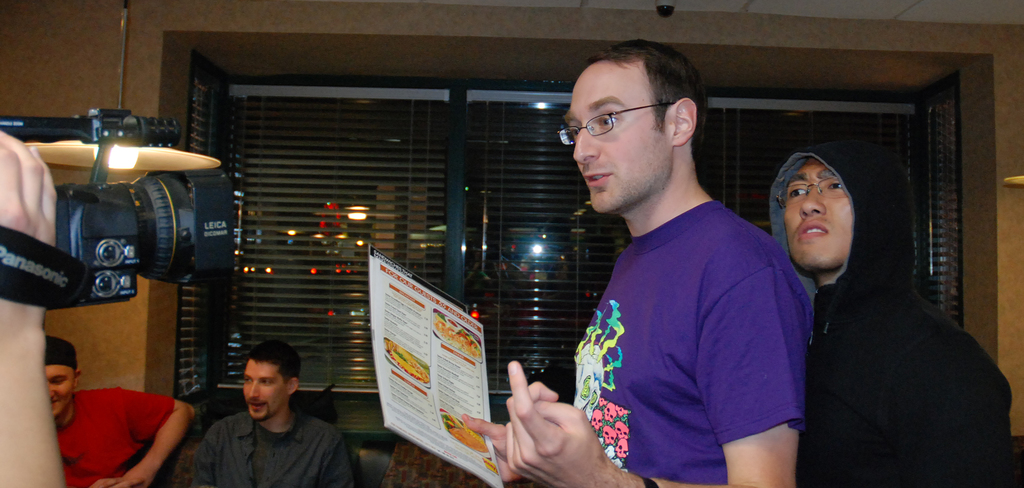Human-face: (562, 65, 673, 215), (783, 161, 850, 270), (241, 360, 288, 422), (45, 363, 70, 414)
